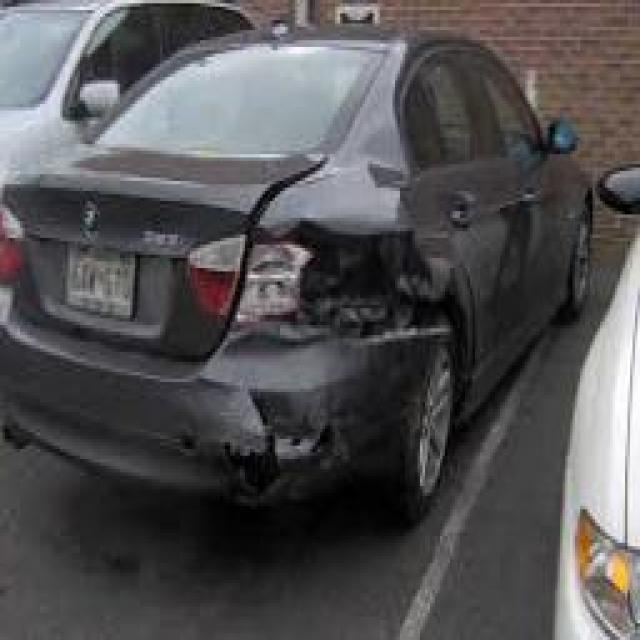replaceable: (224, 201, 476, 340), (174, 397, 395, 486)
